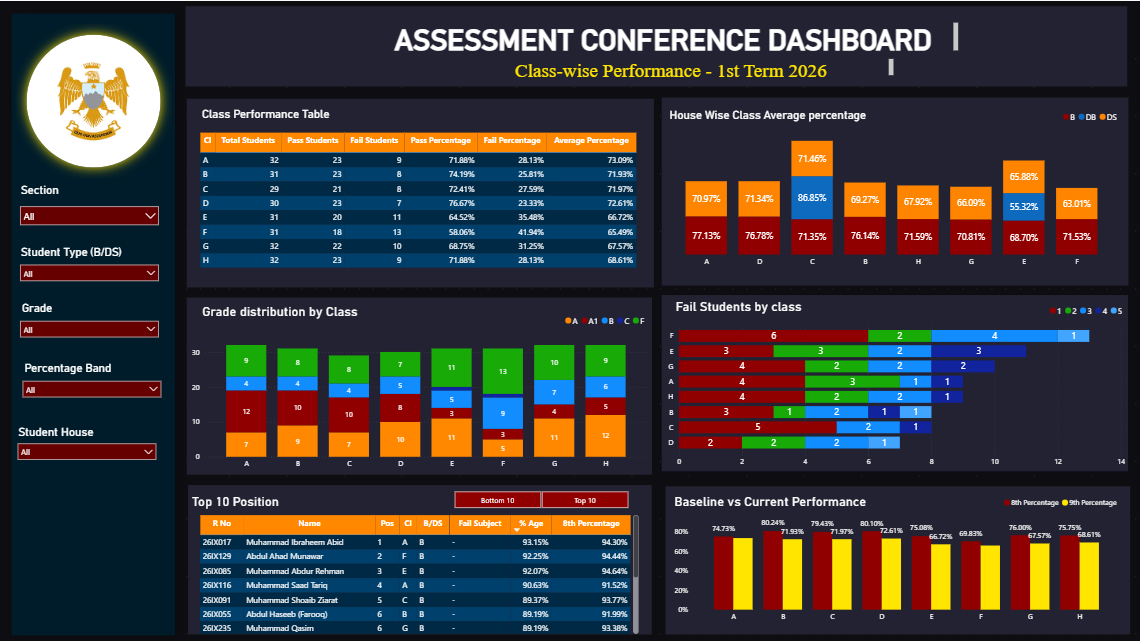

Layout of this report page (visuals, bound fields, positions):
{"tool":"powerbi","page":{"name":"Class wise Performance","canvas":[1920,1080],"ordinal":1},"visuals":[{"type":"shape","box":[0,0,315,1080],"z":0},{"type":"shape","box":[303.3,0,1590,151.7],"z":1000},{"type":"shape","box":[304.4,154.3,797.5,332.5],"z":2000},{"type":"shape","box":[304.4,485.6,794.4,313.3],"z":3000},{"type":"columnChart","fields":{"Category":["9th result.Cl"],"Series":["9th result.Grd"],"Y":["CountNonNull(9th result.Grd)"]},"box":[317.5,512.5,770,277.5],"z":4000},{"type":"textbox","box":[332.5,500,275,40],"z":5000},{"type":"shape","box":[26.9,37.7,261.5,259.2],"z":6000},{"type":"image","box":[82.5,91.7,149.2,150.8],"z":7000},{"type":"textbox","box":[620,31.2,986.2,60],"z":8000},{"type":"textbox","box":[754.2,91.7,745,41.7],"z":9000},{"type":"tableEx","fields":{"Values":["9th result.Cl","Measures Table.Total Students","Measures Table.Pass Students","Measures Table.Fail Students","Measures Table.Pass Percentage","Measures Table.Fail Percentage","Measures Table.Average Percentage"]},"box":[330.4,214.6,743.3,242.2],"z":10000},{"type":"textbox","box":[333.2,173.1,356.2,41.2],"z":11000},{"type":"shape","box":[1098,482,796,312],"z":12000},{"type":"barChart","fields":{"Series":["9th result.F Sub"],"Category":["9th result.Cl"],"Y":["Measures Table.Total Students"]},"box":[1110.3,496,775,290],"z":13000},{"type":"textbox","box":[1124.9,491.6,275,40],"z":14000},{"type":"shape","box":[306,800,792,267],"z":15000},{"type":"shape","box":[1098.3,153.3,796.7,331.7],"z":16000},{"type":"columnChart","fields":{"Y":["Measures Table.Average Percentage"],"Category":["9th result.Cl"],"Series":["9th result.B/DS"]},"box":[1106.2,172.5,770,280],"z":17000},{"type":"textbox","box":[1114,176,356,40],"z":18000},{"type":"shape","box":[1103.3,801.7,793.3,265],"z":19000},{"type":"textbox","box":[317.5,818.8,273.8,40],"z":20000},{"type":"clusteredColumnChart","fields":{"Category":["9th result.Cl"],"Y":["Avg(9th result.8th Percentage)","Avg(9th result.% Age)"]},"box":[1123.3,818.3,753.3,228.3],"z":21000},{"type":"textbox","box":[1123.3,818.3,346.7,40],"z":22000},{"type":"slicer","fields":{"Values":["ToggleTable.View Toggle"]},"box":[735.4,811.5,340,41.5],"z":23000},{"type":"tableEx","fields":{"Values":["9th result.R No","9th result.Name","9th result.Pos","9th result.Cl","9th result.B/DS","9th result.F Sub","9th result.% Age","9th result.8th Percentage"]},"box":[330,853,743,208],"z":24000},{"type":"slicer","fields":{"Values":["9th result.Name"]},"box":[24.3,326.7,251.2,68.8],"z":25000},{"type":"textbox","box":[32,300.3,192.5,31.2],"z":26000},{"type":"slicer","fields":{"Values":["9th result.B/DS"]},"box":[24.3,429.6,251.2,55],"z":27000},{"type":"textbox","box":[32.3,403.1,192.5,31.2],"z":28000},{"type":"group","id":"g1","title":"Group 3","box":[25.7,496.3,251.2,81.5],"z":29000},{"type":"slicer","fields":{"Values":["9th result.Clean House"]},"box":[20,729.2,251.2,55],"z":30000},{"type":"textbox","box":[28,702.7,192.5,31.2],"z":31000},{"type":"group","id":"g2","title":"Group 4","box":[28.6,596.7,251.3,81.5],"z":32000},{"type":"slicer","fields":{"Values":["9th result.Grd"]},"box":[25.7,522.8,251.2,55],"z":33000,"group":"g1"},{"type":"textbox","box":[33.7,496.3,192.5,31.2],"z":34000,"group":"g1"},{"type":"slicer","fields":{"Values":["9th result.Percentage Band"]},"box":[28.6,623.2,251.2,55],"z":35000,"group":"g2"},{"type":"textbox","box":[36.6,596.7,192.5,31.2],"z":36000,"group":"g2"}]}

Visuals, with their boxes in screenshot pixels (x1, y1, x2, y2), scaled from the page's 1920x1080 canvas onto the 1140x641 screenshot:
shape: 0,0,187,640
shape: 180,0,1124,90
shape: 181,92,654,289
shape: 181,288,652,474
columnChart - 9th result.Cl x 9th result.Grd: 189,304,646,469
textbox: 197,297,361,320
shape: 16,22,171,176
image: 49,54,138,144
textbox: 368,19,954,54
textbox: 448,54,890,79
tableEx - 9th result.Cl x Measures Table.Total Students: 196,127,638,271
textbox: 198,103,409,127
shape: 652,286,1125,471
barChart - 9th result.F Sub x 9th result.Cl: 659,294,1119,467
textbox: 668,292,831,316
shape: 182,475,652,633
shape: 652,91,1125,288
columnChart - Measures Table.Average Percentage x 9th result.Cl: 657,102,1114,269
textbox: 661,104,873,128
shape: 655,476,1126,633
textbox: 189,486,351,510
clusteredColumnChart - 9th result.Cl x Avg(9th result.8th Percentage): 667,486,1114,621
textbox: 667,486,873,509
slicer - ToggleTable.View Toggle: 437,482,639,506
tableEx - 9th result.R No x 9th result.Name: 196,506,637,630
slicer - 9th result.Name: 14,194,164,235
textbox: 19,178,133,197
slicer - 9th result.B/DS: 14,255,164,288
textbox: 19,239,133,258
"Group 3" group: 15,295,164,343
slicer - 9th result.Clean House: 12,433,161,465
textbox: 17,417,131,436
"Group 4" group: 17,354,166,403
slicer - 9th result.Grd: 15,310,164,343
textbox: 20,295,134,313
slicer - 9th result.Percentage Band: 17,370,166,403
textbox: 22,354,136,373
